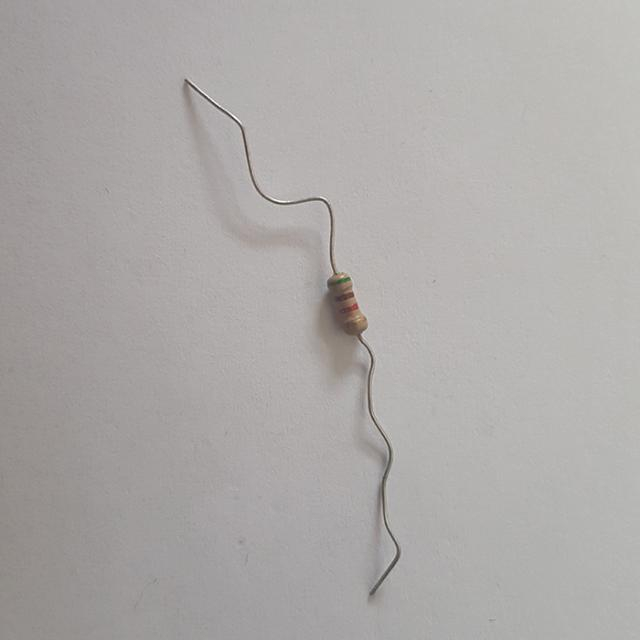brown: (335, 293, 353, 301)
gold: (344, 317, 366, 327)
green: (329, 277, 352, 287)
red: (341, 304, 358, 314)
resistor: (320, 267, 376, 340)
